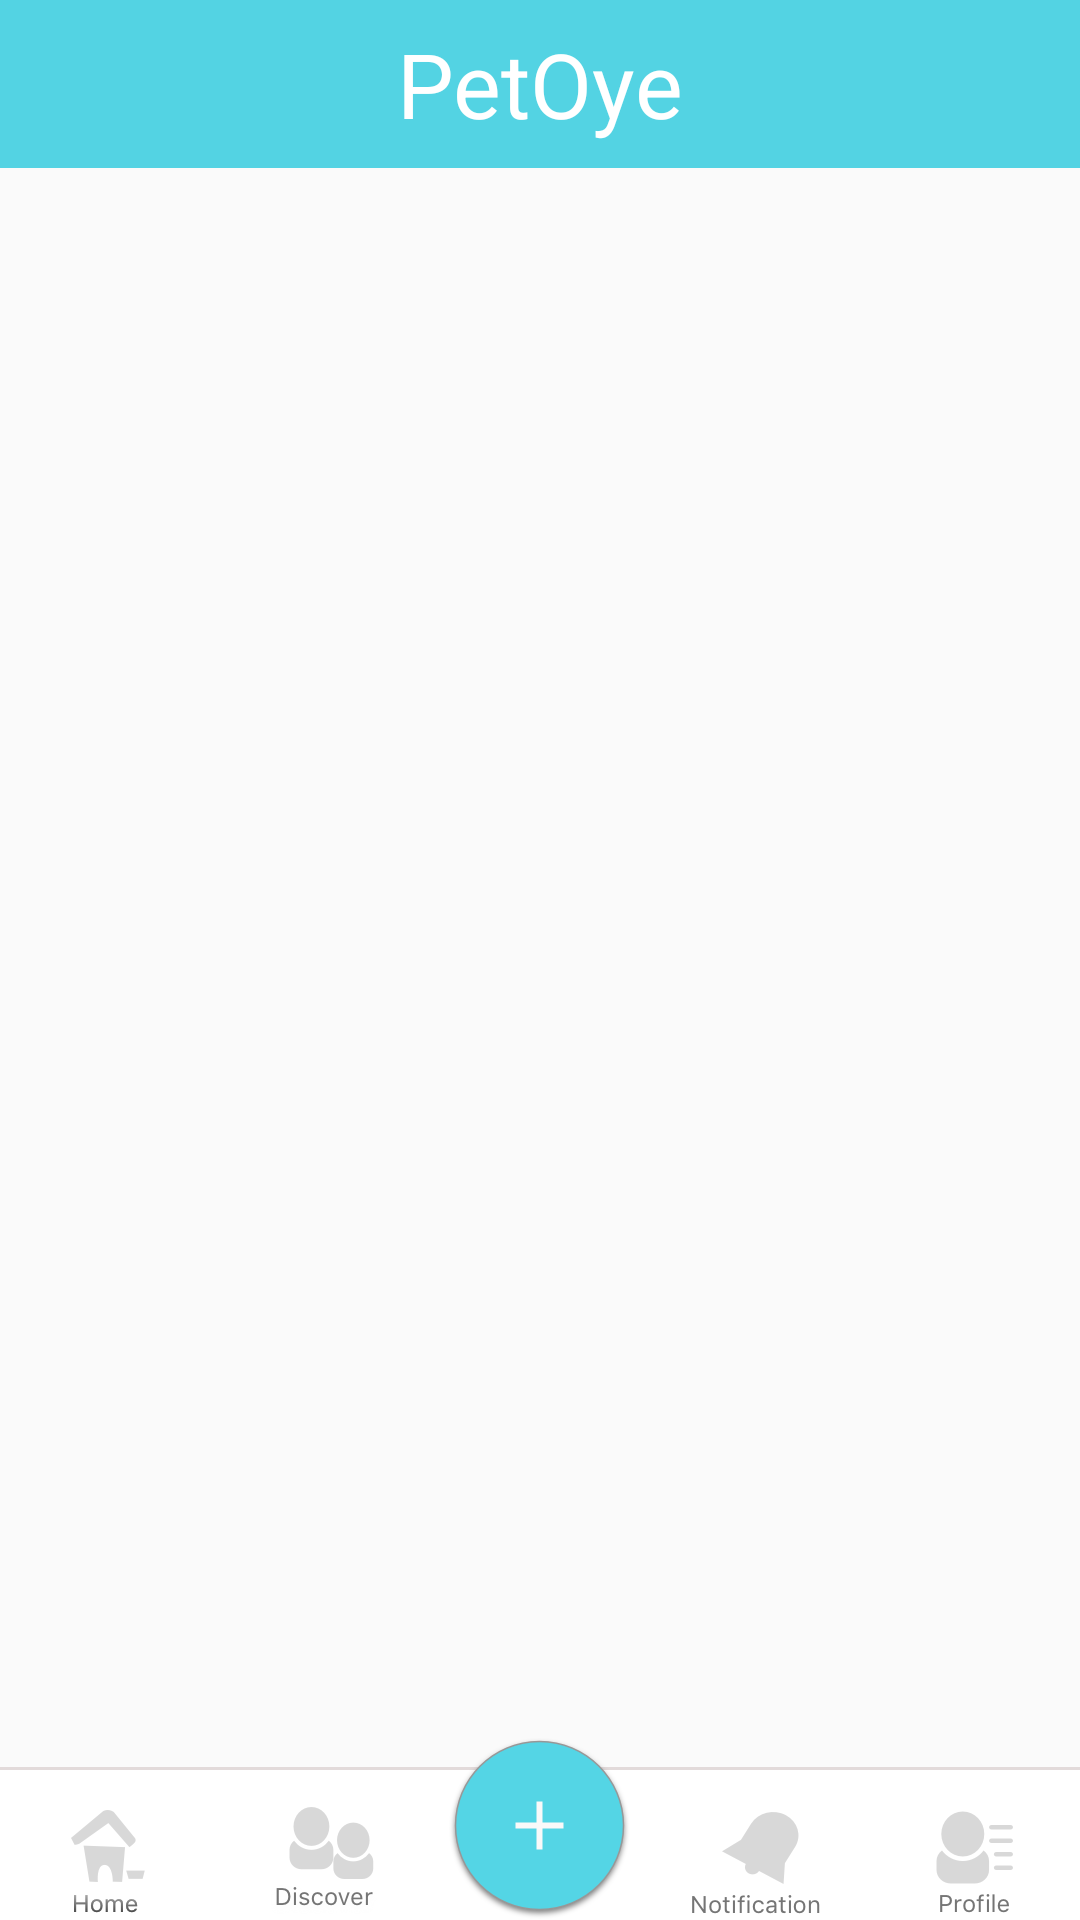

Where to tap for icons on this 1080*1920 app screen, as [x,y]:
post: [539,1827]
